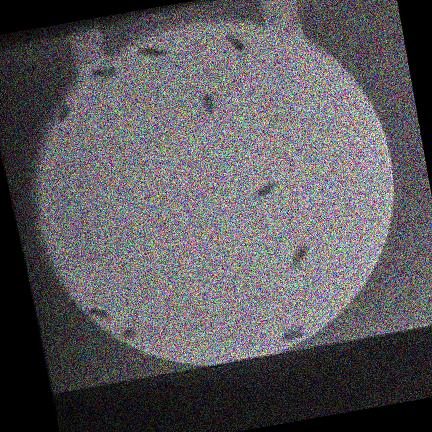fly: (225, 35, 247, 55), (255, 181, 277, 198), (292, 245, 307, 266), (280, 328, 302, 342), (55, 104, 72, 122), (91, 68, 116, 80), (201, 94, 215, 115), (138, 48, 165, 58), (89, 308, 109, 321), (121, 329, 136, 340)
